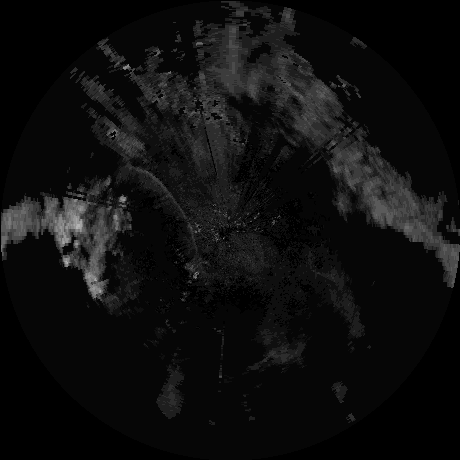frontgust: (134, 167, 202, 263)
